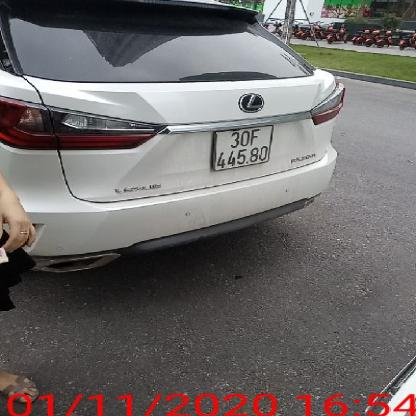biensoxe: (214, 122, 275, 171)
